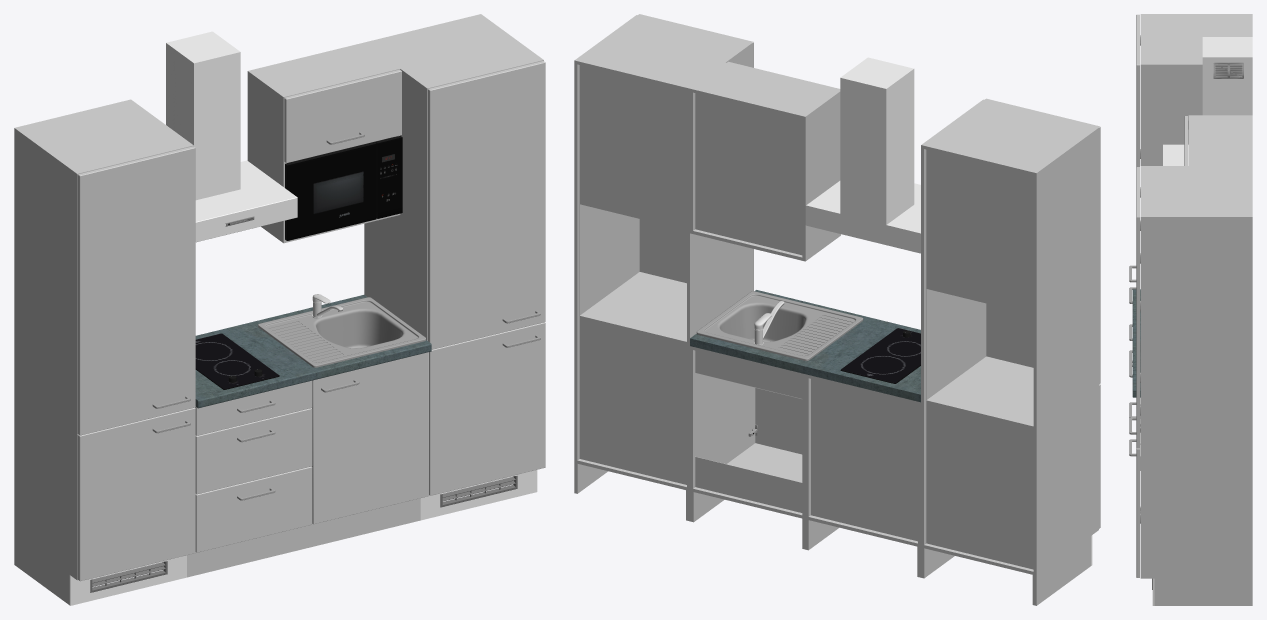
Rendered from kuhen.gltf.
3 views of the same model, side by side, from view 1: azimuth 30°, elevation 25°; view 2: azimuth 150°, elevation 25°; view 3: azimuth 270°, elevation 25° (orthographic). The views are drawn at different scales.
Parts seen in each view (by area): view 1: front_Tür_60x1277 (×2), body.G123_02_1 (×2), front_Tür_60x717001 (×2), front_Tür_600x720002, Haube_Edelstahl_60, Mikrowelle001, body_WM60_02, front_Tür_60x318, front.Schublade_60x285.005_0, front.Schublade_60x285.006_0, Spüle_einzeln_Edelstahl, worktop_Arbeitsplatte (+6 smaller); view 2: body.G123_02_1 (×2), body.G123_02_0 (×2), body_WM60_02, body.W30_02.016_0, Haube_Edelstahl_60, body.SPUD60_0, front_Tür_60x1277 (×2), Spüle_einzeln_Edelstahl, worktop_Arbeitsplatte, Cube.007_0, front_Tür_600x720002, body_Sockel_Side_left; view 3: body.G123_02_1 (×2), Haube_Edelstahl_60, body_WM60_02, body_Sockel_Side_right, front_Tür_60x1277 (×2), worktop_Arbeitsplatte, front_Tür_60x717001, front_Tür_60x318.
Part boxes in pixels (x1,y1,x2,y2): front_Tür_60x1277 (×2): (77,61,545,435); body.G123_02_1 (×2): (14,14,543,580); front_Tür_60x717001 (×2): (77,322,545,581); front_Tür_600x720002: (312,352,428,524); Haube_Edelstahl_60: (166,31,297,242); Mikrowelle001: (285,135,402,240); body_WM60_02: (247,42,400,243); front_Tür_60x318: (284,69,401,163); front.Schublade_60x285.005_0: (195,408,312,494); front.Schublade_60x285.006_0: (195,466,312,552); Spüle_einzeln_Edelstahl: (258,297,425,367); worktop_Arbeitsplatte: (195,294,431,408); body.G123_02_1 (×2): (574,15,1098,575); body.G123_02_0 (×2): (579,65,1033,314); body_WM60_02: (690,62,840,261); body.W30_02.016_0: (805,374,920,547); Haube_Edelstahl_60: (805,57,920,253); body.SPUD60_0: (690,346,805,519); front_Tür_60x1277 (×2): (638,14,1100,384); Spüle_einzeln_Edelstahl: (696,291,863,360); worktop_Arbeitsplatte: (690,290,920,402); Cube.007_0: (840,328,920,383); front_Tür_600x720002: (755,388,802,454); body_Sockel_Side_left: (1032,536,1090,605); body.G123_02_1 (×2): (1140,14,1252,578); Haube_Edelstahl_60: (1162,37,1252,165); body_WM60_02: (1188,115,1252,165); body_Sockel_Side_right: (1154,578,1252,605); front_Tür_60x1277 (×2): (1136,14,1139,448); worktop_Arbeitsplatte: (1132,289,1140,397); front_Tür_60x717001: (1136,448,1139,577); front_Tür_60x318: (1184,116,1187,165).
Bounding box in the file's own units: 2.4 × 2.38 × 0.6155.
28 materials, 6 textured.
